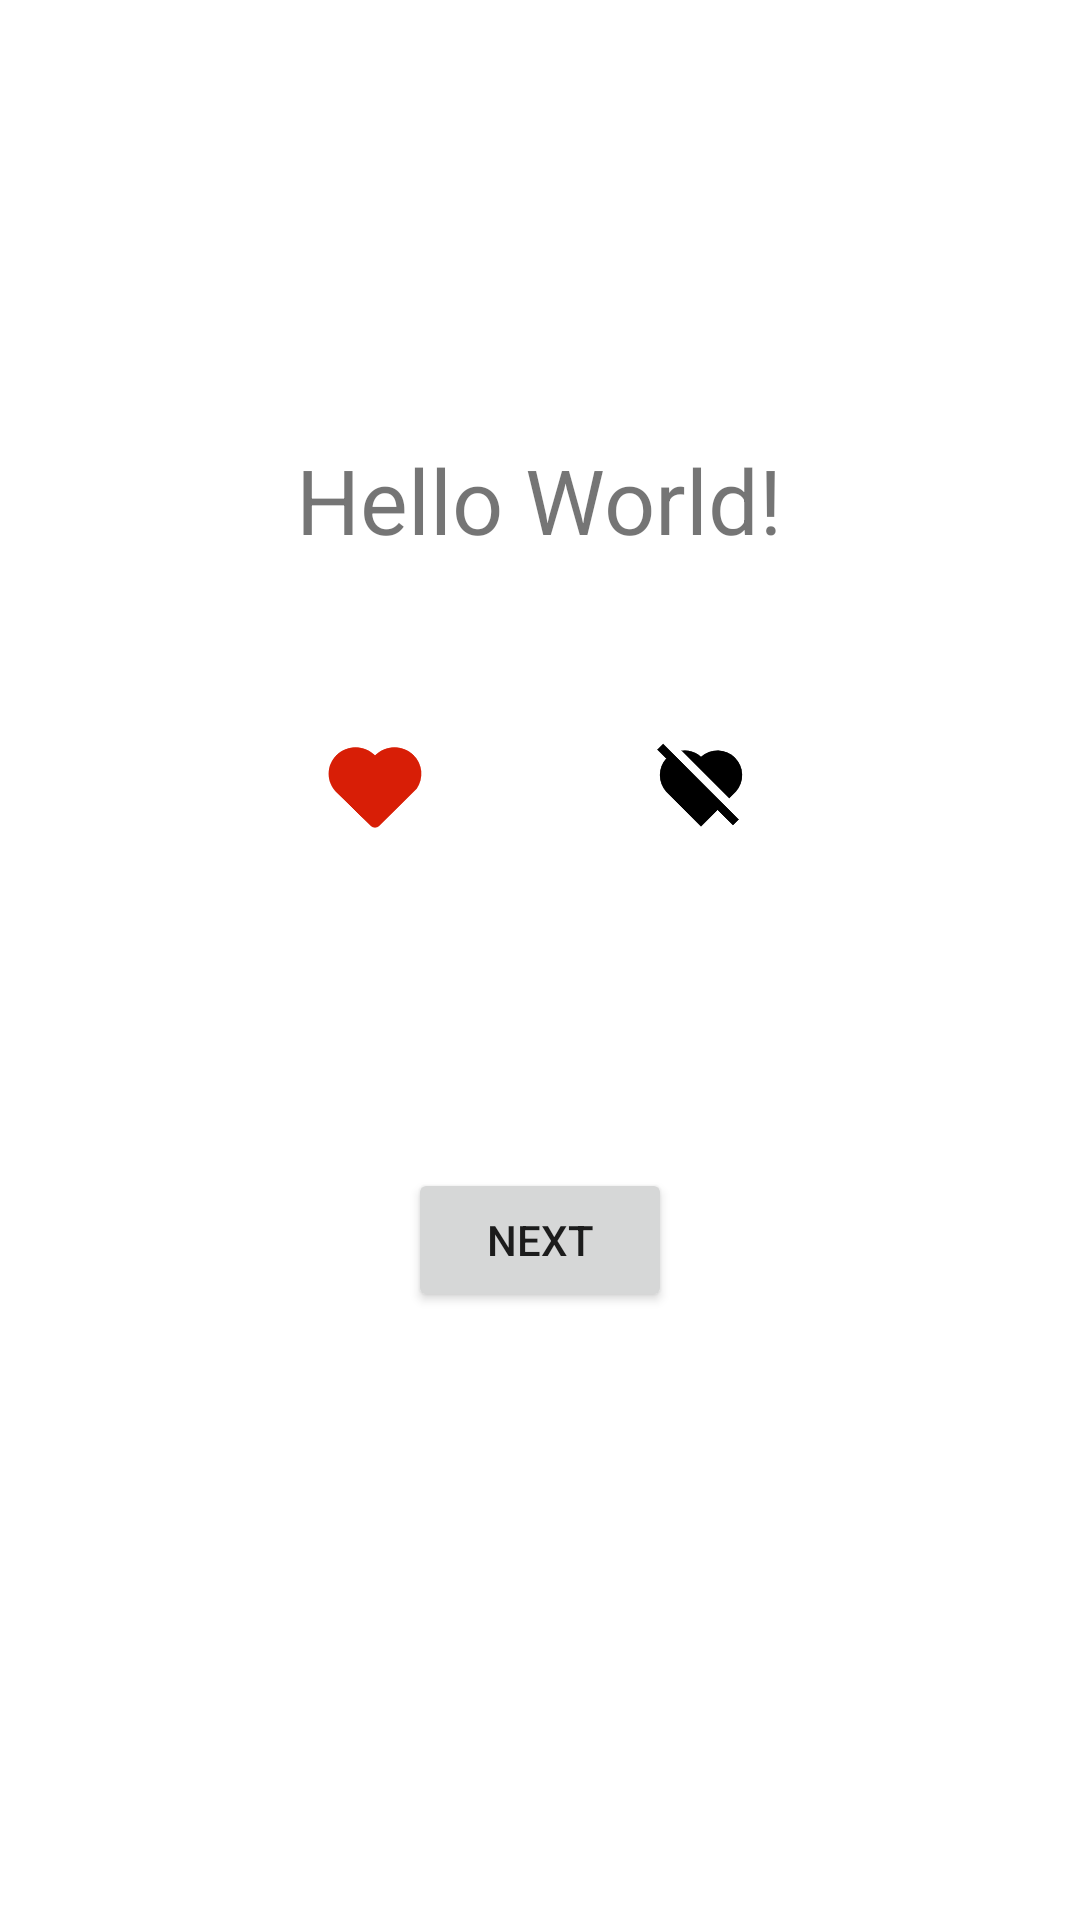

Named icons in this screenshot (1080*1920) and their centers, (x=x, y=y):
dislike: (x=700, y=785)
like: (x=375, y=787)
